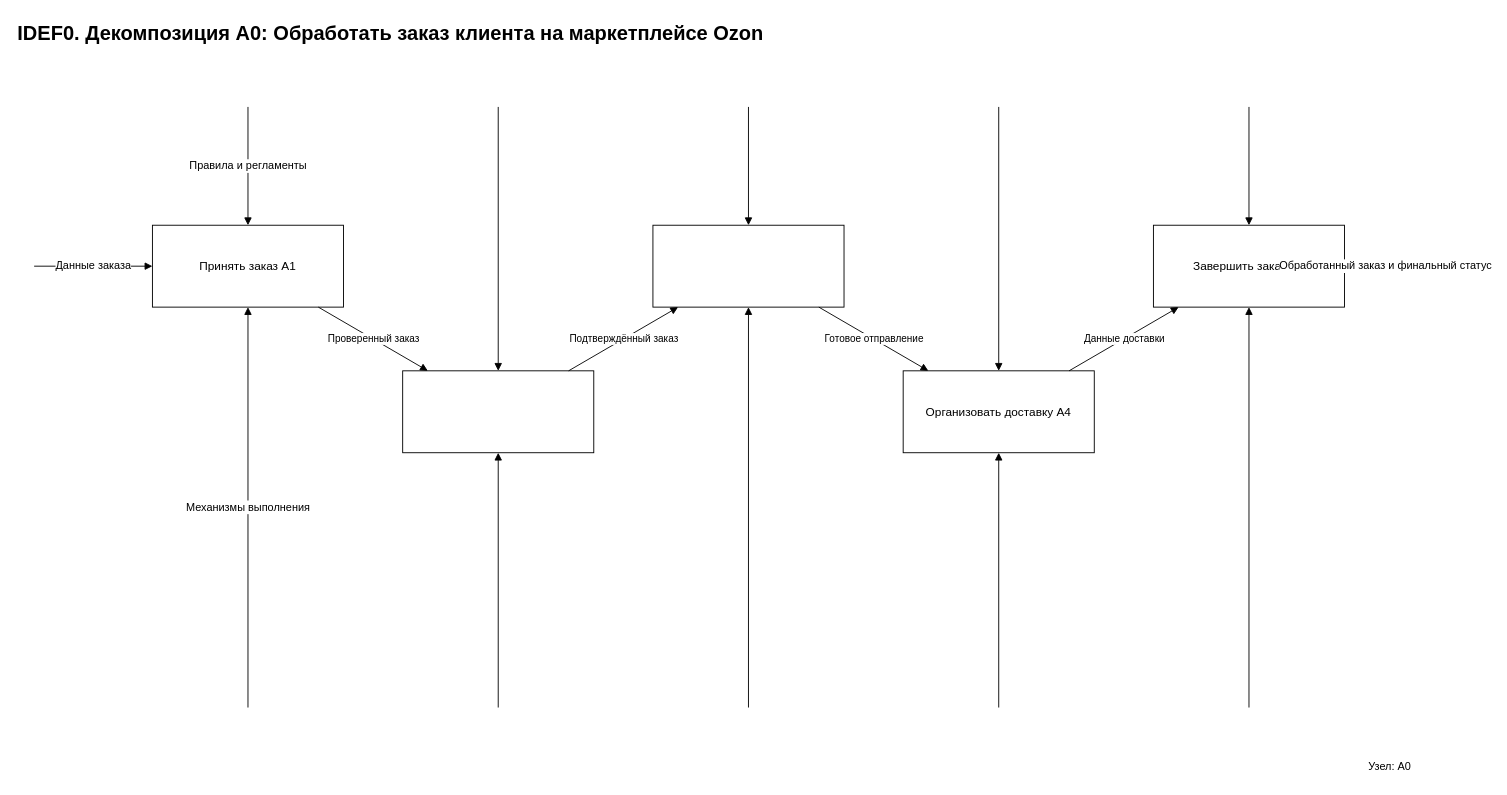
Some shapes in this 1507 by 795 pixel diagram are drawn without their labels. Here are the shapes that lost their labels. From the top down, the centre of each, then its label:
At [748,265]: "Подготовить отправление A3".
At [498,411]: "Проверить оплату и наличие A2".
